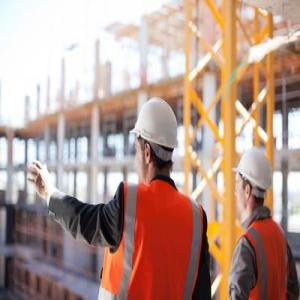white: (133, 96, 179, 179), (237, 148, 273, 219)
